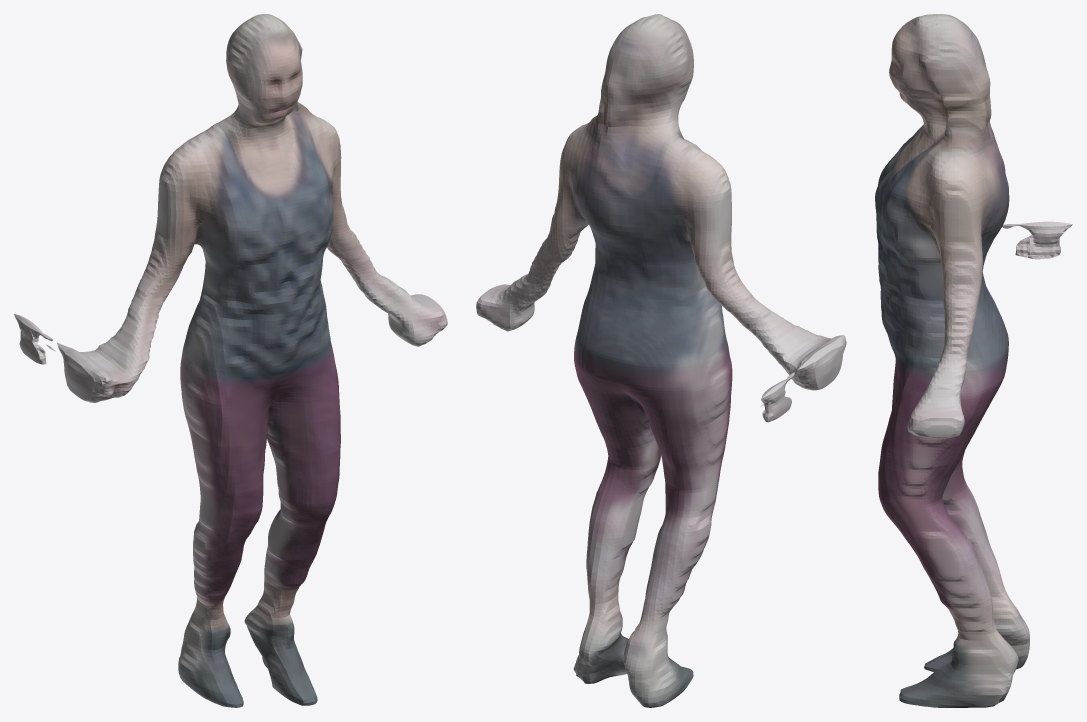
The model's file is 0137_tex.glb.
3 renders of one model, left to right at view 1: azimuth 30°, elevation 25°; view 2: azimuth 150°, elevation 25°; view 3: azimuth 270°, elevation 25°, orthographic. The views are drawn at different scales.
Visible parts, largest first — view 1: 0137_tex.obj; view 2: 0137_tex.obj; view 3: 0137_tex.obj.
Part boxes in pixels (x1,y1,x2,y2): 0137_tex.obj: (14,14,447,707); 0137_tex.obj: (476,14,846,707); 0137_tex.obj: (875,14,1072,707).
Bounding box in the file's own units: 0.4968 × 0.8935 × 0.2381.
